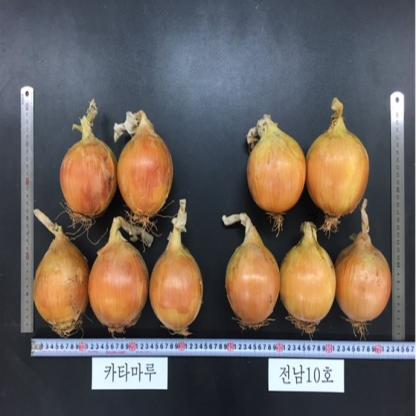onion: (88, 240, 147, 333), (60, 126, 116, 223), (310, 126, 372, 212), (224, 232, 281, 323), (250, 119, 308, 207), (36, 236, 90, 330), (118, 129, 176, 214), (333, 246, 388, 326), (284, 245, 336, 328), (150, 255, 202, 335)
